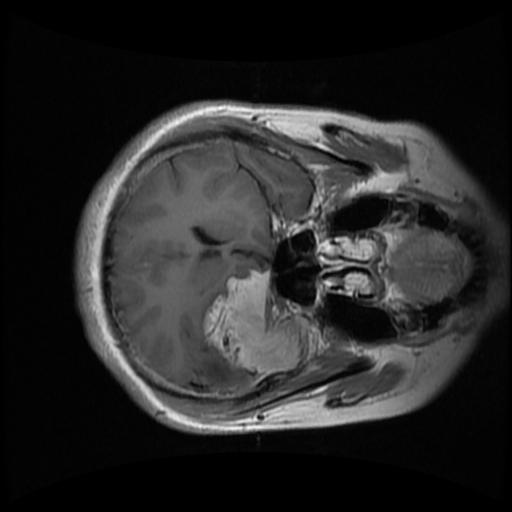meningioma: (204, 267, 309, 379)
